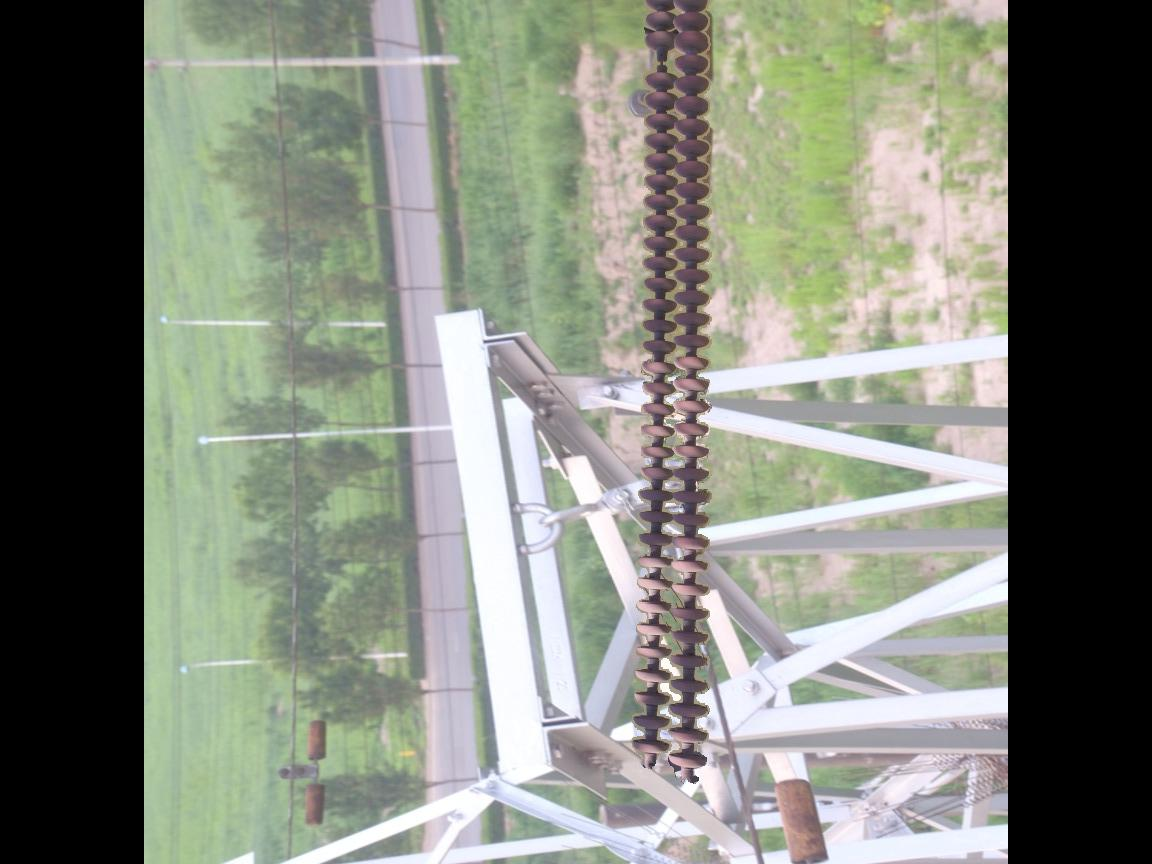insulator: (627, 1, 716, 777)
insulator_stringdrop: (642, 26, 677, 91)
